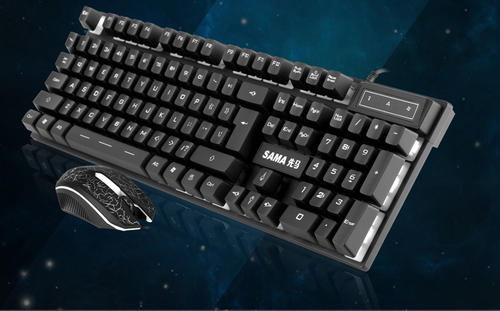keyboard: (23, 7, 454, 272)
mouse: (51, 163, 160, 235)
